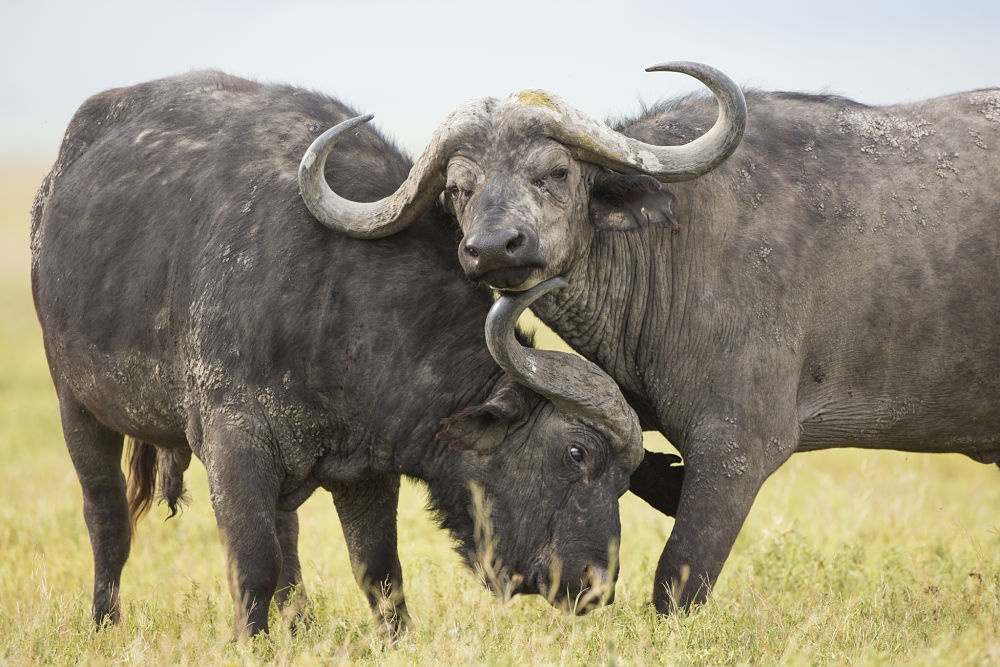buffalo: (299, 56, 998, 626), (25, 65, 646, 636)
